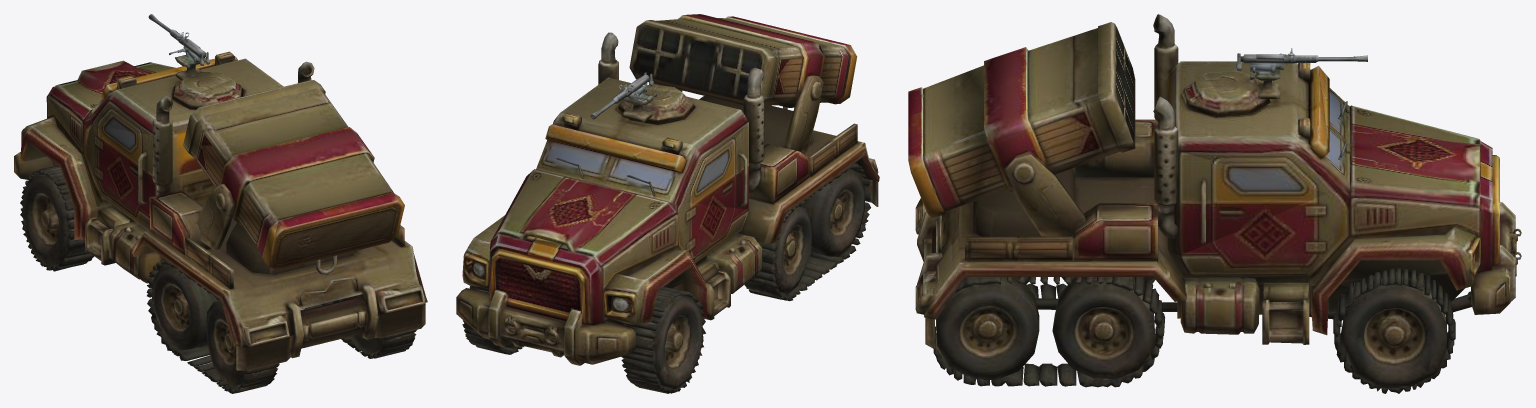
Rendered from yard_crane.glb.
The picture shows the model from 3 angles, left to right: view 1: azimuth 30°, elevation 25°; view 2: azimuth 150°, elevation 25°; view 3: azimuth 270°, elevation 25°; orthographic projection. The views are drawn at different scales.
Parts seen in each view (by area): view 1: Body, Trim, Turret; view 2: Body, Trim, Turret; view 3: Body, Trim, Turret.
Boxes of the visible parts, box(x1,y1,x2,y2) form: Body: box(14, 14, 427, 393); Trim: box(83, 51, 404, 266); Turret: box(149, 14, 231, 100); Body: box(456, 14, 879, 393); Trim: box(463, 46, 856, 316); Turret: box(592, 72, 687, 117); Body: box(908, 14, 1521, 393); Trim: box(912, 63, 1499, 276); Turret: box(1206, 48, 1366, 104).
Bounding box in the file's own units: 2.71 × 3.16 × 6.
Materials: 2 (2 with a texture image).
